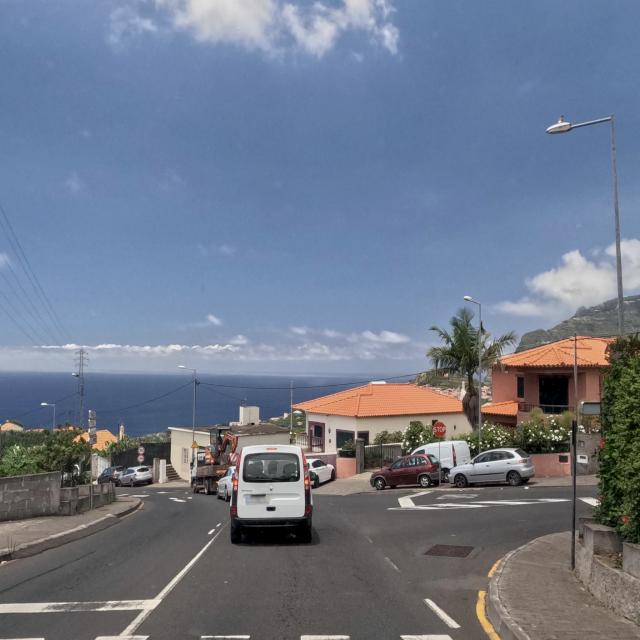car: (229, 444, 313, 544), (447, 446, 536, 488), (369, 454, 444, 491), (306, 458, 335, 488), (117, 465, 154, 487), (216, 465, 238, 501), (98, 466, 124, 485)
